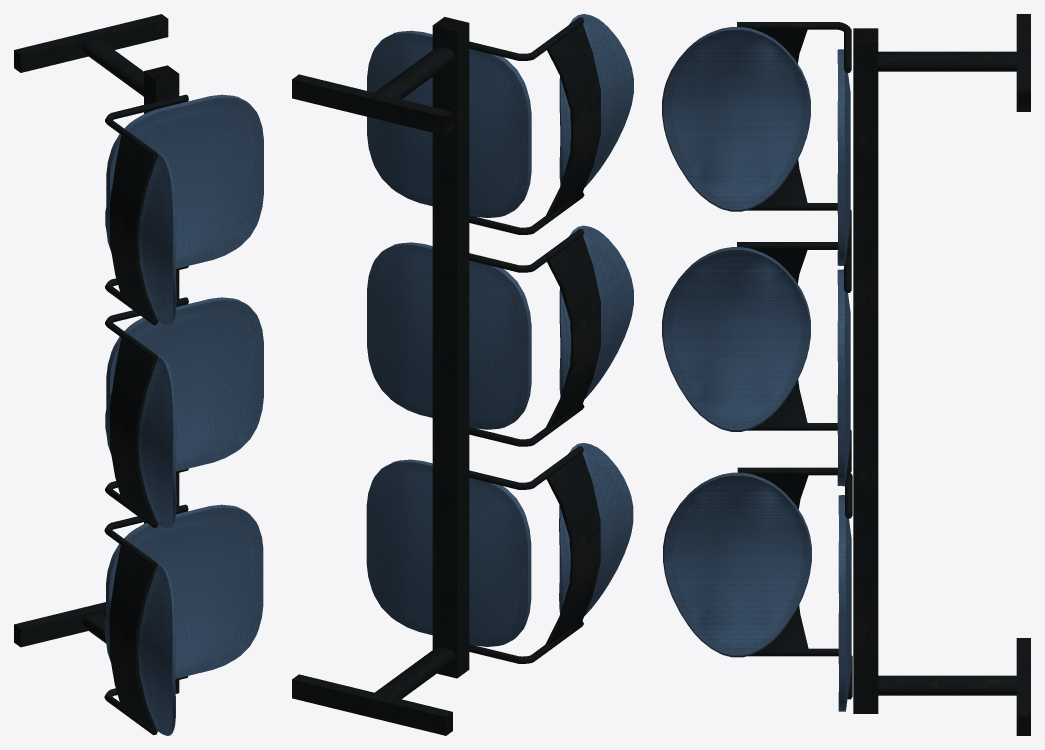
The model's file is ChairPotatoChip.glb.
3 renders of one model, left to right at view 1: azimuth 30°, elevation 25°; view 2: azimuth 150°, elevation 25°; view 3: azimuth 270°, elevation 25°, orthographic. The views are drawn at different scales.
Visible parts, largest first — view 1: PotatoChipsChair; view 2: PotatoChipsChair; view 3: PotatoChipsChair.
Boxes of the visible parts, <box> form: PotatoChipsChair: <box>14,14,263,735</box>; PotatoChipsChair: <box>292,14,633,735</box>; PotatoChipsChair: <box>662,14,1030,735</box>.
Bounding box in the file's own units: 0.4776 × 1.62 × 0.8068.
1 material, 1 textured.
